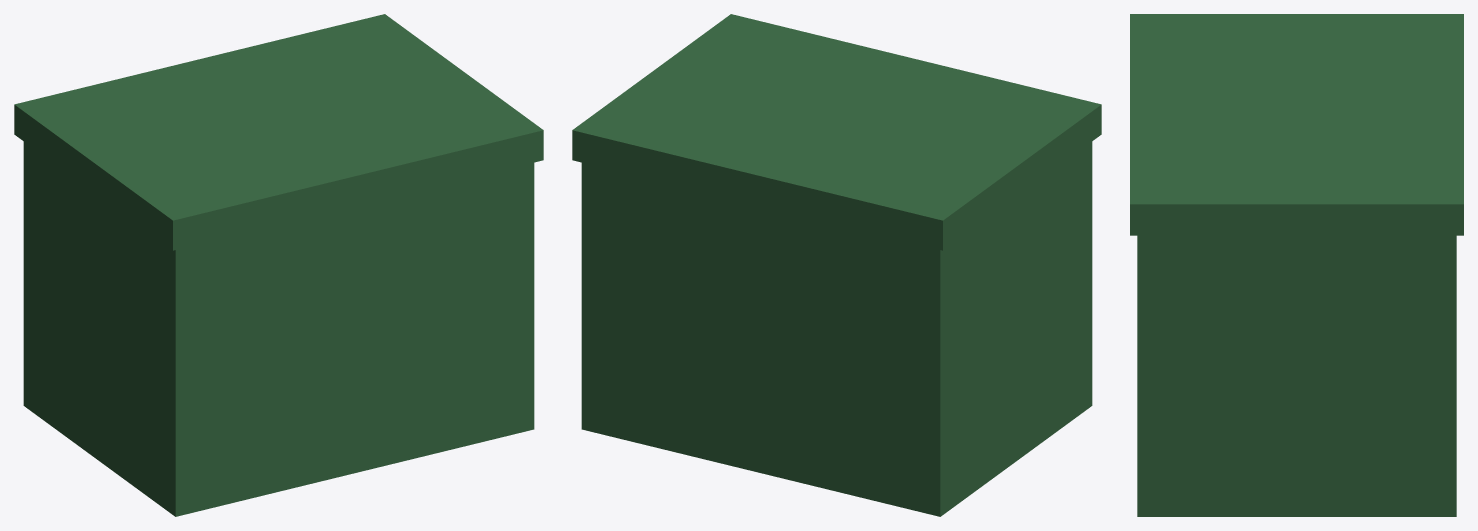
3 views of the same model, side by side, from view 1: azimuth 30°, elevation 25°; view 2: azimuth 150°, elevation 25°; view 3: azimuth 270°, elevation 25° (orthographic). The views are drawn at different scales.
Visible parts, largest first — view 1: baseOffset=-0.3;diameter=0.25;height=0.3;material=plastic_gr; view 2: baseOffset=-0.3;diameter=0.25;height=0.3;material=plastic_gr; view 3: baseOffset=-0.3;diameter=0.25;height=0.3;material=plastic_gr.
Boxes of the visible parts, box(x1,y1,x2,y2) form: baseOffset=-0.3;diameter=0.25;height=0.3;material=plastic_gr: box(14, 14, 543, 516); baseOffset=-0.3;diameter=0.25;height=0.3;material=plastic_gr: box(572, 14, 1101, 516); baseOffset=-0.3;diameter=0.25;height=0.3;material=plastic_gr: box(1130, 14, 1463, 516).
Bounding box in the file's own units: 0.3875 × 0.2875 × 0.3.
